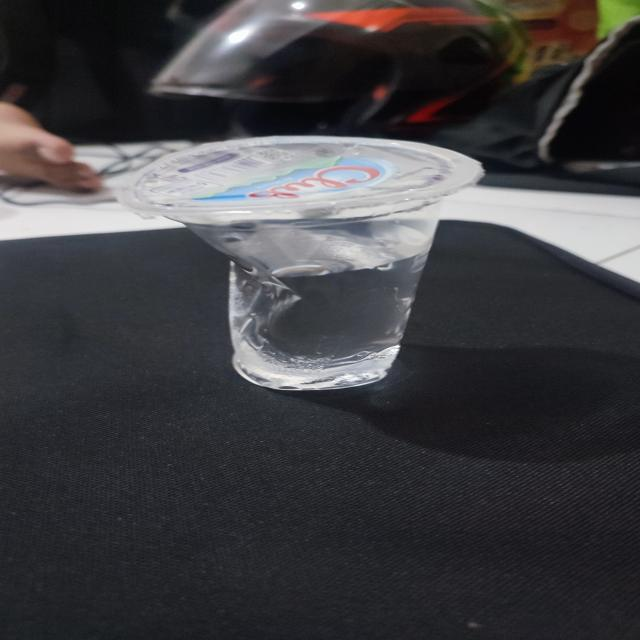air-gelas-rusak: (106, 132, 496, 396)
